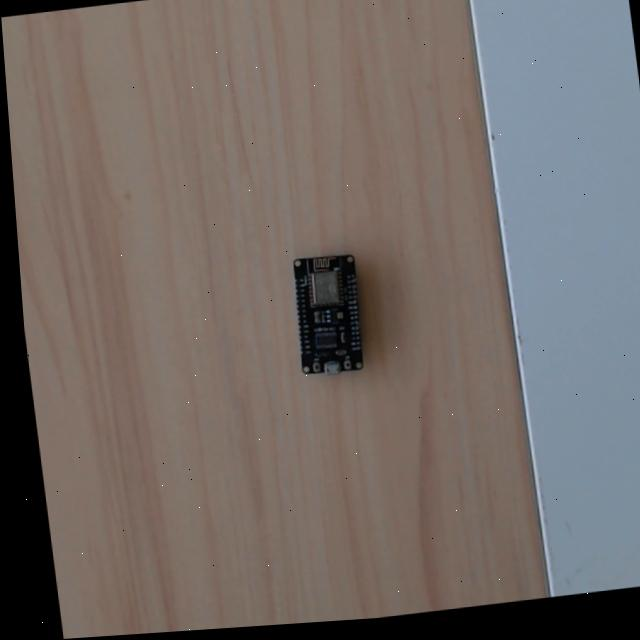ESP8266-NodeMCU: (292, 252, 363, 376)
